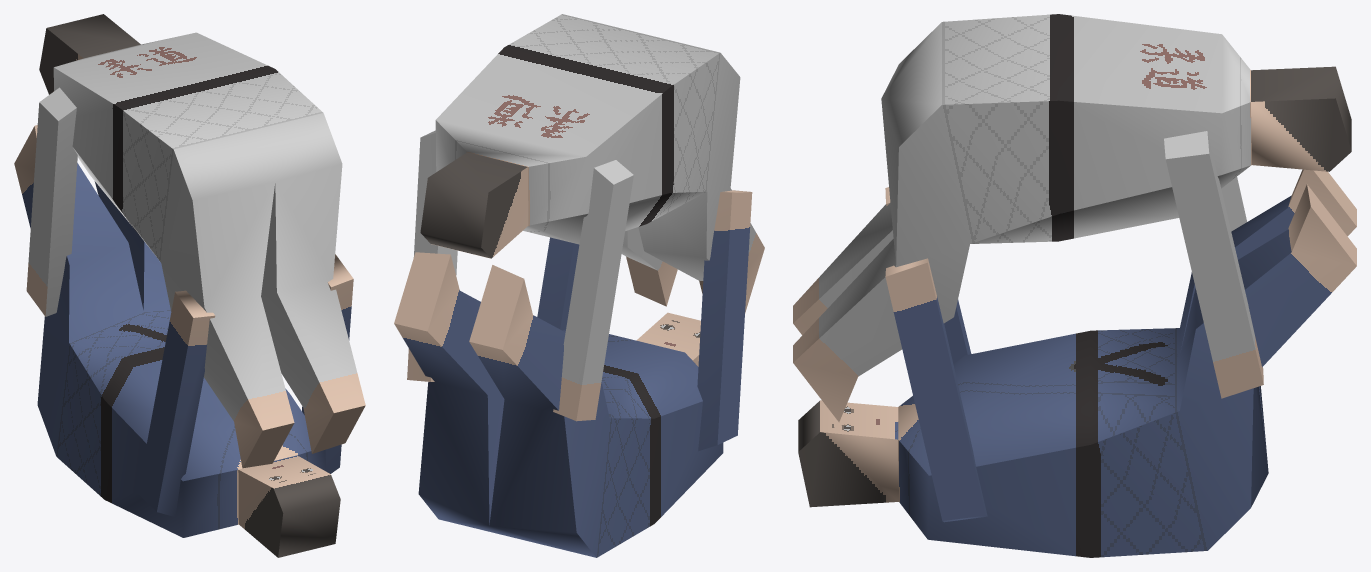
Rendered from 0408_Killer_Move.glb.
The picture shows the model from 3 angles, left to right: view 1: azimuth 30°, elevation 25°; view 2: azimuth 150°, elevation 25°; view 3: azimuth 270°, elevation 25°; orthographic projection. The views are drawn at different scales.
Parts seen in each view (by area): view 1: part_0; view 2: part_0; view 3: part_0.
Boxes of the visible parts, <box> form: part_0: <box>14,14,365,557</box>; part_0: <box>394,14,764,557</box>; part_0: <box>793,14,1356,557</box>.
Bounding box in the file's own units: 0.6454 × 1.36 × 1.52.
Materials: 1 (1 with a texture image).
